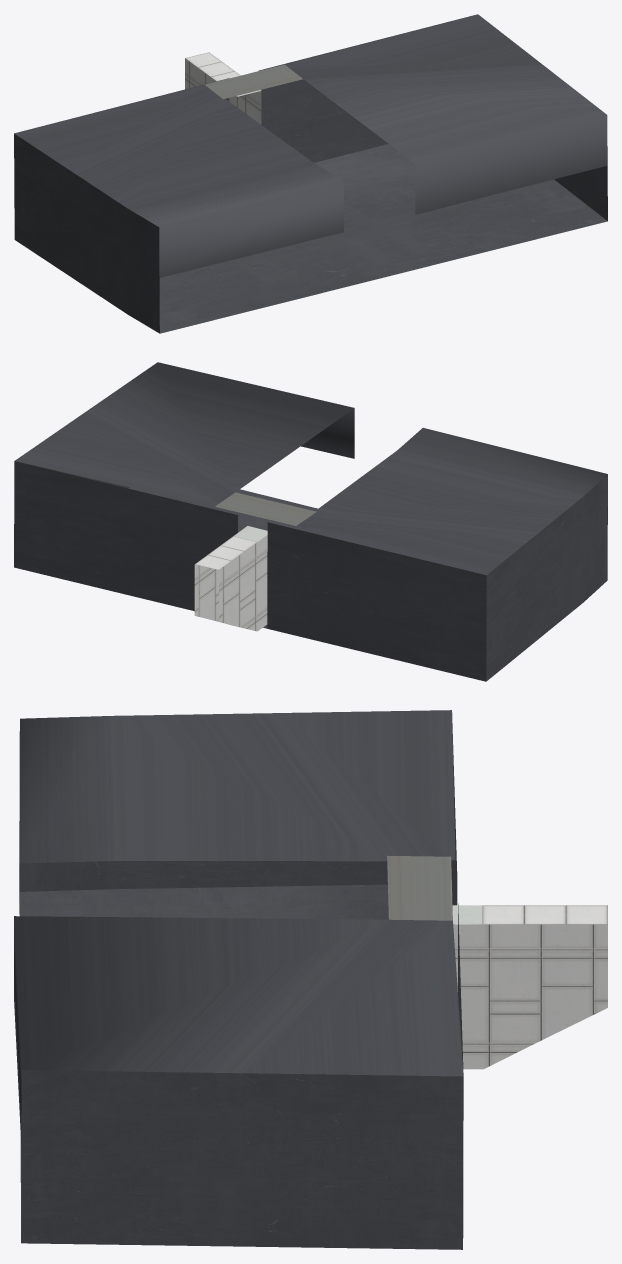
The model's file is STA20_Storerear.FBX.
3 views of the same model, one above another, from view 1: azimuth 30°, elevation 25°; view 2: azimuth 150°, elevation 25°; view 3: azimuth 270°, elevation 25° (orthographic). The views are drawn at different scales.
Parts seen in each view (by area): view 1: STA20_Storerear; view 2: STA20_Storerear; view 3: STA20_Storerear.
Boxes of the visible parts, x1,y1,x2,y2 form: STA20_Storerear: (14,14,607,333); STA20_Storerear: (14,362,607,681); STA20_Storerear: (14,710,607,1249).
Size of the model in its own units: 42.21 by 9.45 by 28.57.
